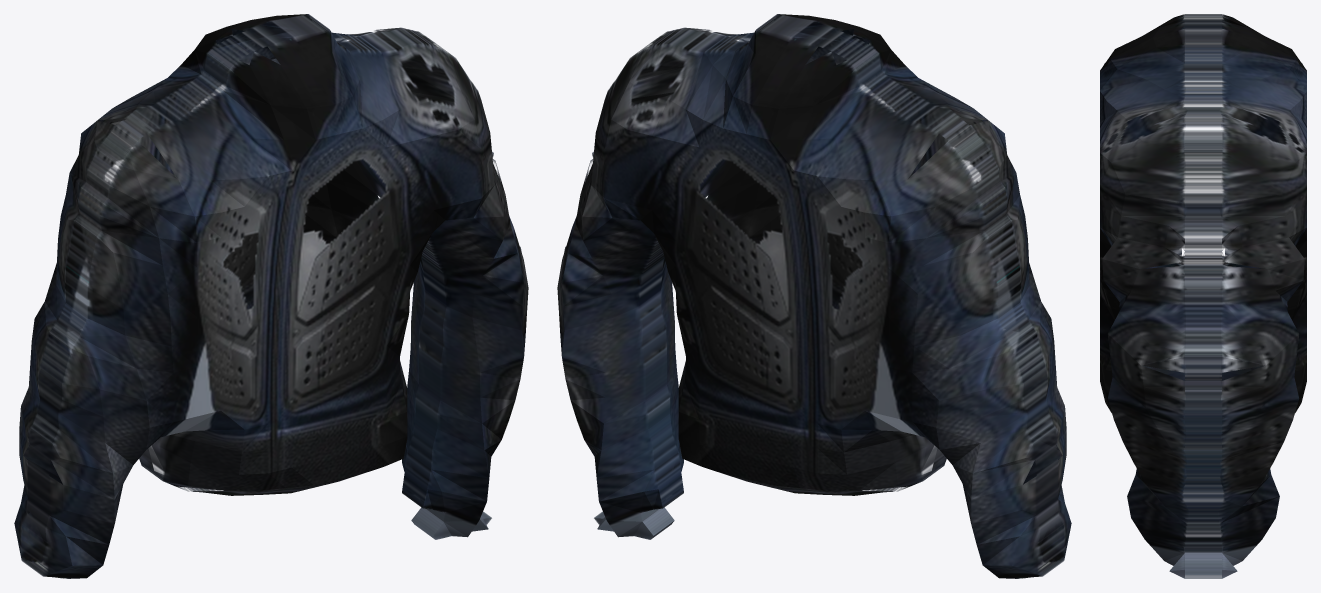
The model's file is sidi-horizon-armored-shirt-174.glb.
3 views of the same model, side by side, from view 1: azimuth 30°, elevation 25°; view 2: azimuth 150°, elevation 25°; view 3: azimuth 270°, elevation 25° (orthographic). The views are drawn at different scales.
Parts seen in each view (by area): view 1: world; view 2: world; view 3: world.
Part boxes in pixels (<box>): world: <box>14,14,528,578</box>; world: <box>557,14,1071,578</box>; world: <box>1100,14,1306,578</box>.
Size of the model in its own units: 0.9294 by 1 by 0.4.
Materials: 1 (1 with a texture image).
